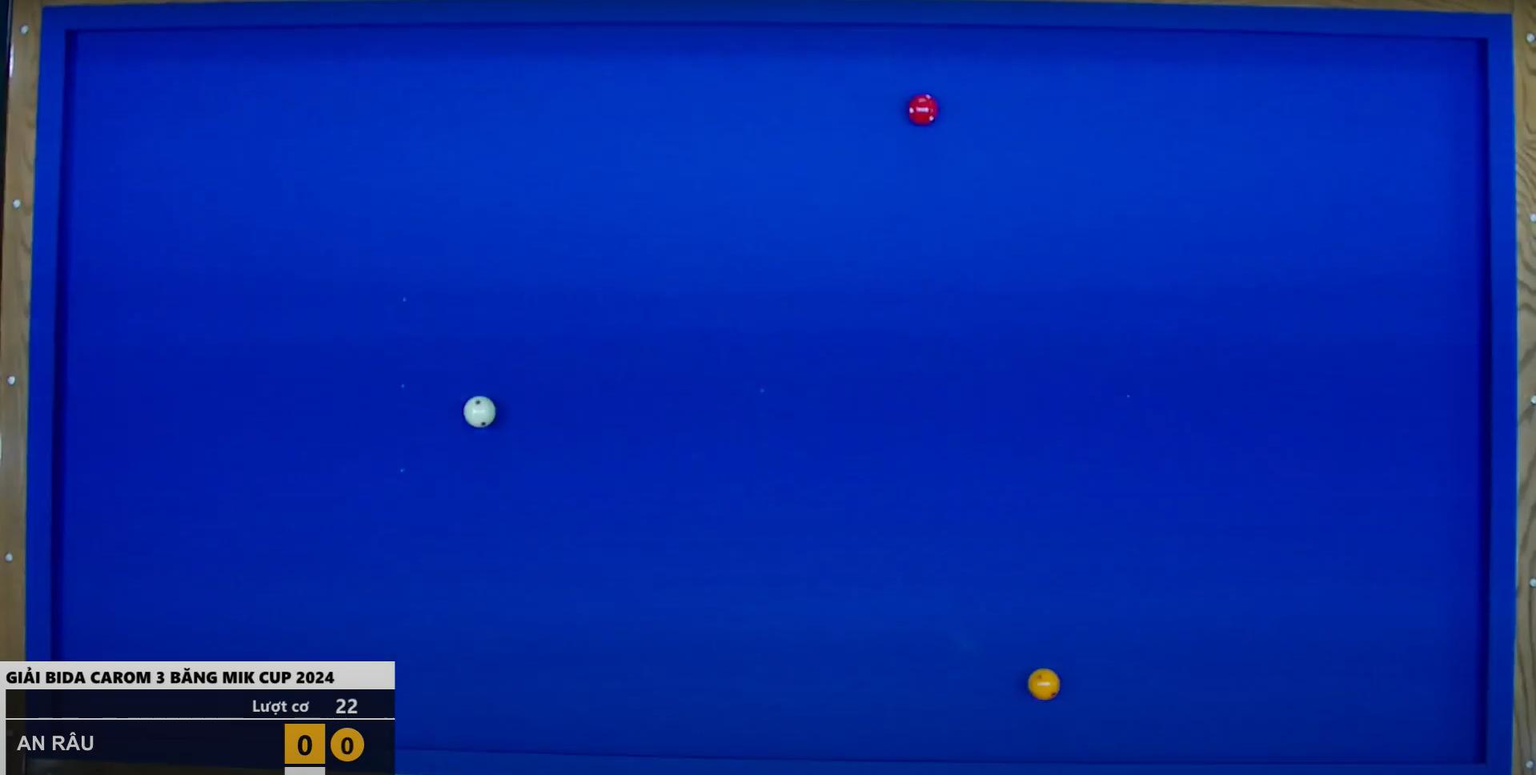red ball: (902, 90, 946, 137)
white ball: (459, 391, 502, 435)
yellow ball: (1020, 663, 1065, 707)
